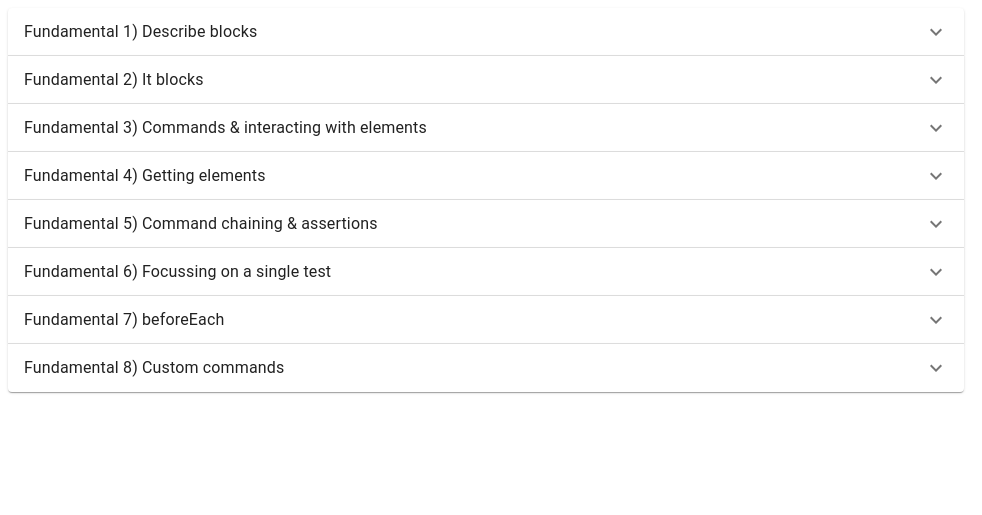
Accordion.cy.jsx › Items
Expected: the text "Your tests will exist in a describe block." is not shown
Click the element with test id "accordion-item-1" at (486, 32), box left=8, top=8, right=964, bottom=56
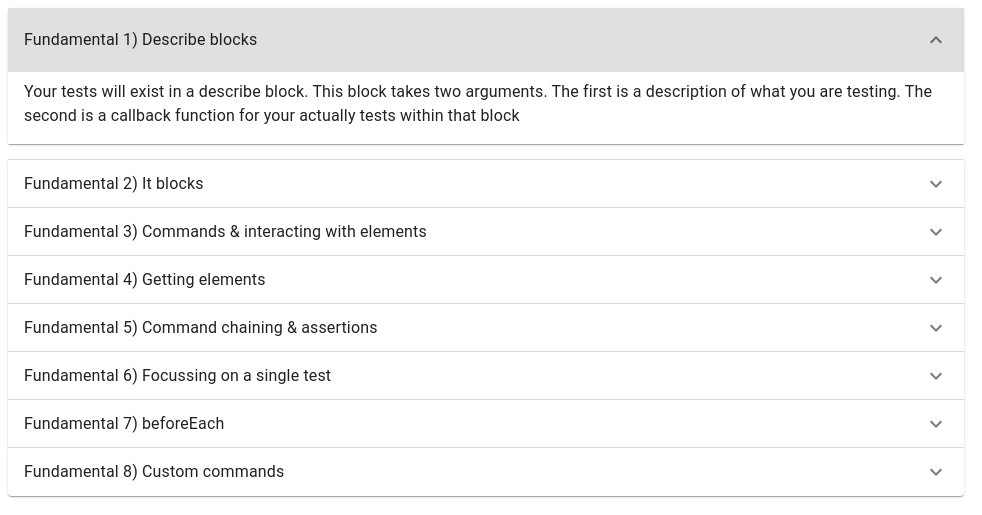
Expected: the text "Your tests will exist in a describe block." is shown, left=24, top=82, right=932, bottom=125
